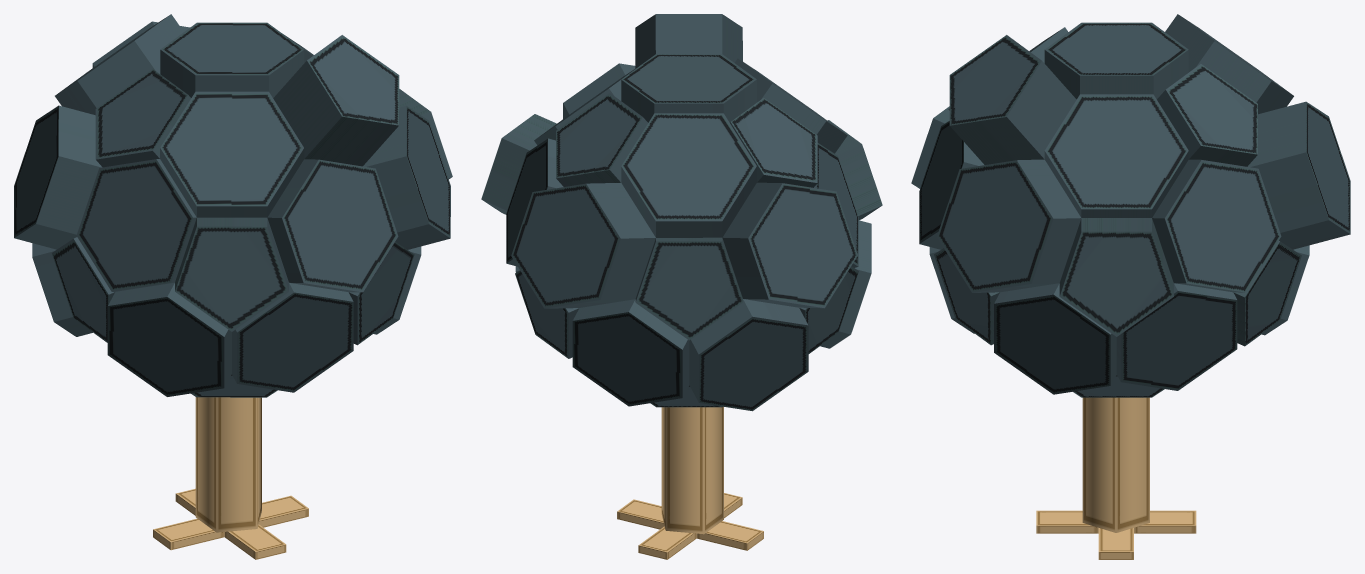
Rendered from Tree023.FBX.
3 views of the same model, side by side, from view 1: azimuth 30°, elevation 25°; view 2: azimuth 150°, elevation 25°; view 3: azimuth 270°, elevation 25° (orthographic). The views are drawn at different scales.
Parts seen in each view (by area): view 1: tree023; view 2: tree023; view 3: tree023.
Boxes of the visible parts, x1,y1,x2,y2 form: tree023: [14, 14, 452, 559]; tree023: [481, 14, 882, 559]; tree023: [911, 14, 1350, 559].
Size of the model in its own units: 252 by 312 by 248.
Materials: 1 (1 with a texture image).
